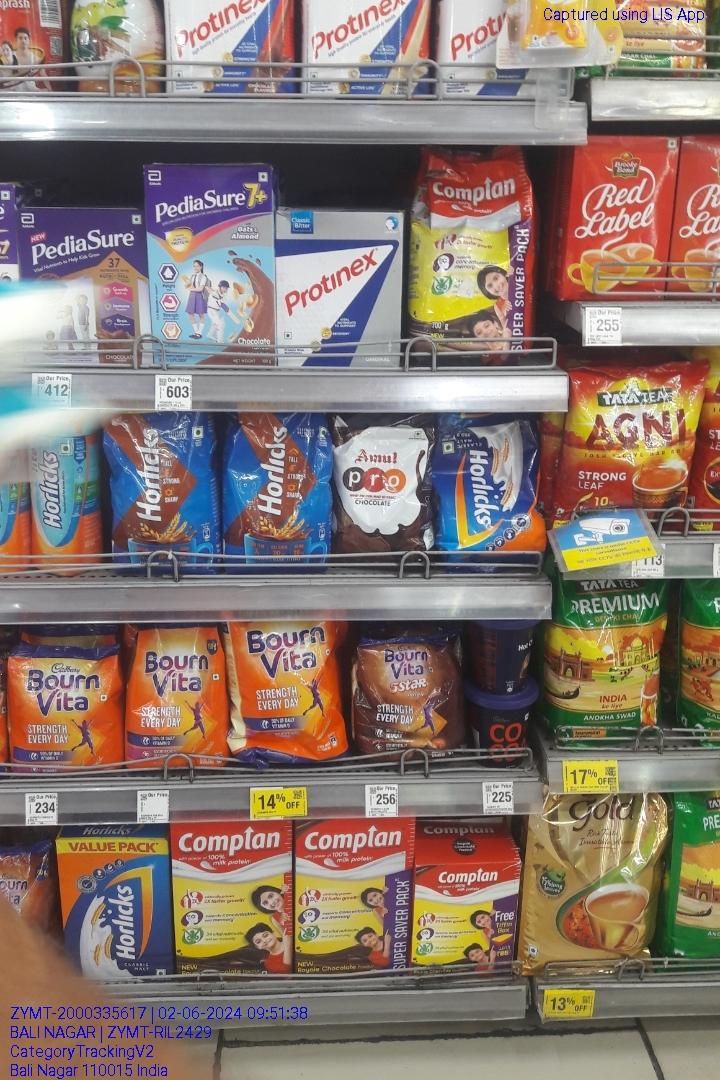BOURN_VITA_FIVE_STAR_MAGIC_500_G_POUCH: (354, 627, 468, 765)
COMPLAN_RC_POUCH_700_GMS_12: (412, 155, 533, 359)
HORLICKS_LITE_REGULAR_MALT_500_GM_JAR: (27, 427, 101, 578)
PEDIASURE_7_PLUS_CHOCOLATE_400_G_PACK: (149, 165, 271, 366)
PROTINEX_CHOCOLATE_400_G_JAR: (163, 0, 296, 91)
PROTINEX_VANILLA_400_G_JAR: (307, 0, 436, 96)
